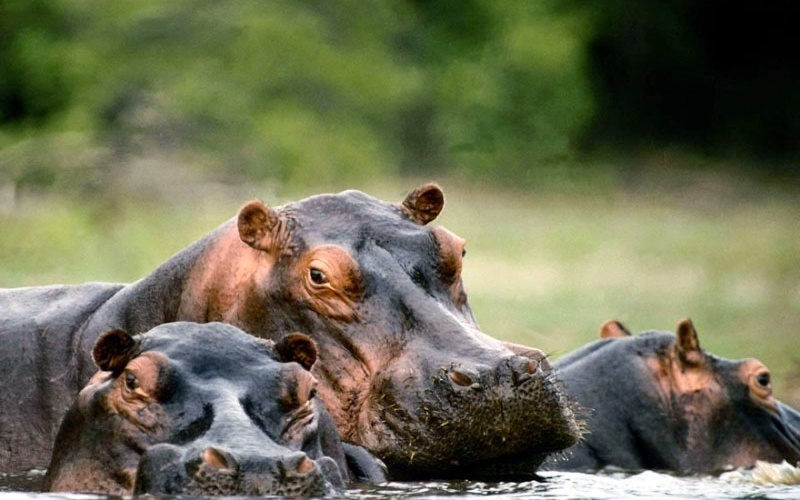hipopotamo: (0, 183, 585, 494), (48, 323, 372, 500), (528, 321, 795, 490)
